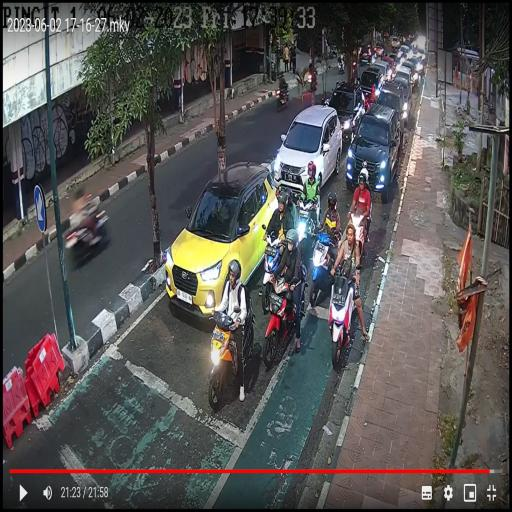mobil: (166, 158, 280, 320), (273, 105, 342, 196), (347, 100, 406, 197), (327, 85, 367, 147), (377, 81, 405, 138), (357, 66, 383, 110), (372, 58, 392, 92)
motor: (207, 307, 256, 411), (328, 270, 362, 371), (263, 267, 295, 373), (307, 224, 336, 312), (259, 226, 288, 311), (346, 198, 374, 270), (294, 192, 322, 251)
